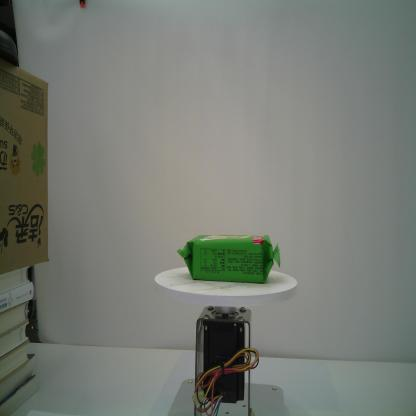Dessert: (176, 230, 281, 284)
